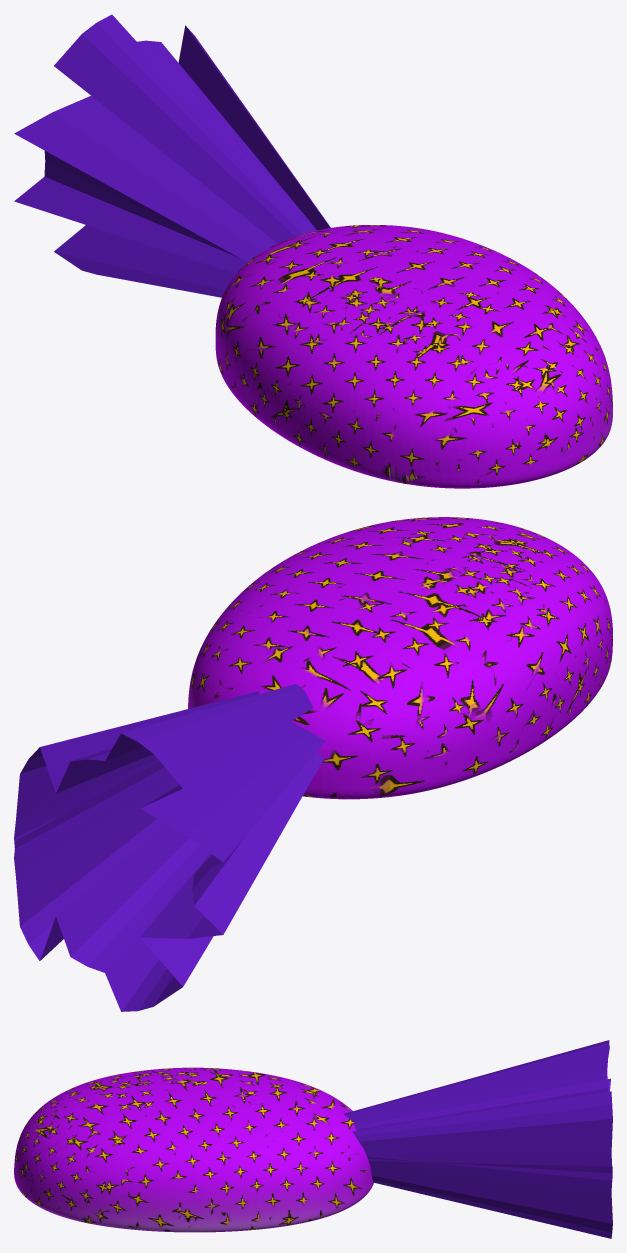
The model's file is trohyhtbft.fbx.
The picture shows the model from 3 angles, top to bottom: view 1: azimuth 30°, elevation 25°; view 2: azimuth 150°, elevation 25°; view 3: azimuth 270°, elevation 25°; orthographic projection. The views are drawn at different scales.
Visible parts, largest first — view 1: Cube, Cone.002, Cone.001; view 2: Cube, Cone.001, Cone.002; view 3: Cube, Cone.002, Cone.001.
Part boxes in pixels (x1,y1,x2,y2): Cube: [215, 225, 612, 488]; Cone.002: [14, 14, 330, 262]; Cone.001: [14, 161, 247, 297]; Cube: [188, 517, 612, 799]; Cone.001: [14, 752, 324, 1011]; Cone.002: [14, 684, 325, 891]; Cube: [14, 1067, 373, 1232]; Cone.002: [344, 1040, 612, 1178]; Cone.001: [365, 1150, 612, 1238].
Size of the model in its own units: 184 by 153 by 434.
Materials: 2 (1 with a texture image).
